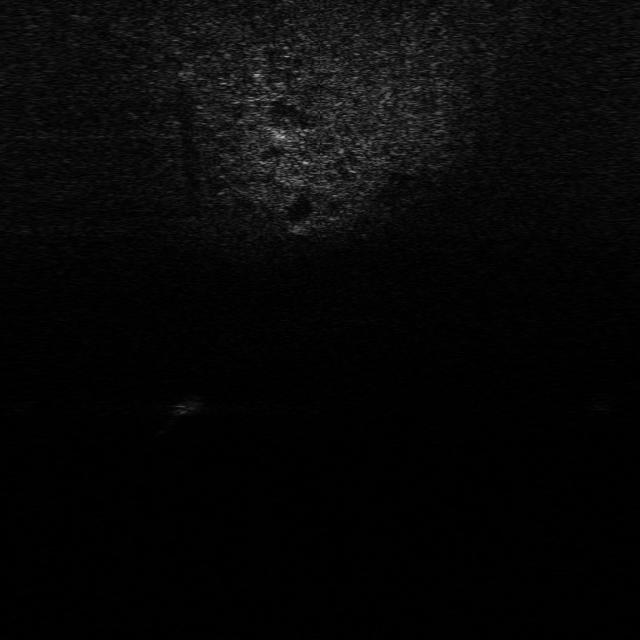cylinder: (154, 385, 207, 440)
